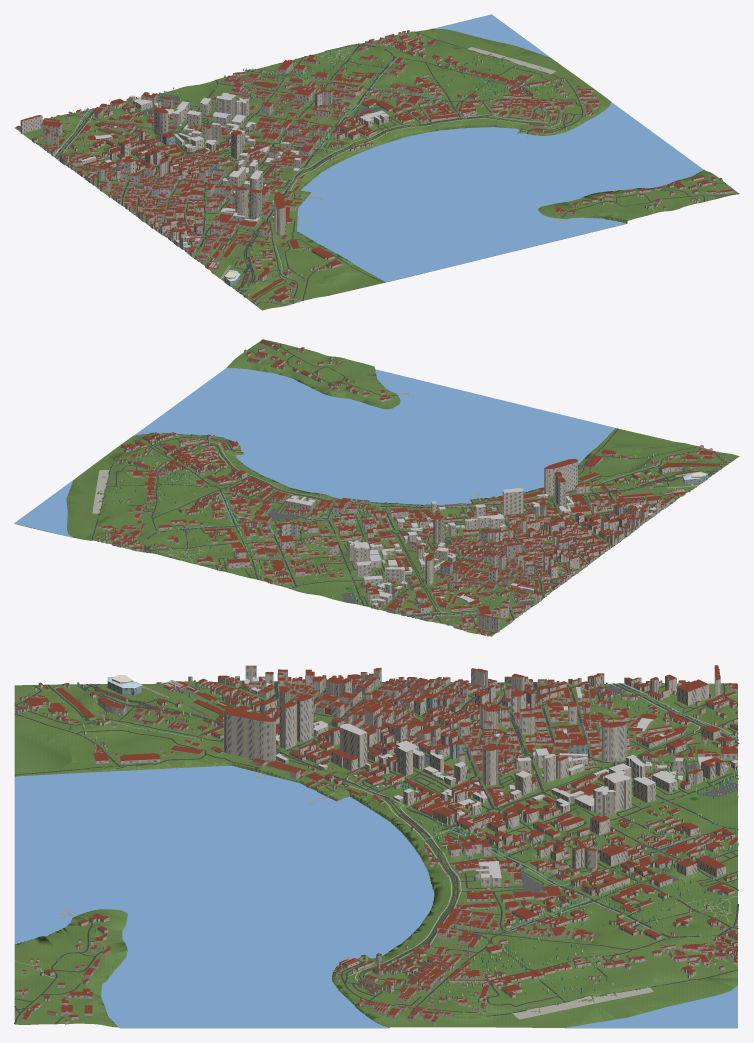
Rendered from Tile_X0_Y0.glb.
3 renders of one model, top to bottom at view 1: azimuth 30°, elevation 25°; view 2: azimuth 150°, elevation 25°; view 3: azimuth 270°, elevation 25°, orthographic. The views are drawn at different scales.
Parts seen in each view (by area): view 1: water_-1_2793, Terrain, water_-1_2792; view 2: Terrain, water_-1_2793, water_-1_2792, building_368888931_443, building_688369868_1840; view 3: water_-1_2793, Terrain, water_-1_2792, building_368888931_443, plaza_1138454515_3658, building_368905048_468, building_688369868_1840, building_688369315_1656, building_688369331_1666, building_688369590_1730, building_688369610_1743, building_368980892_515 (+2 smaller).
Part boxes in pixels (left/top/right/bottom): water_-1_2793: left=297, top=102, right=703, bottom=281; Terrain: left=14, top=28, right=739, bottom=310; water_-1_2792: left=434, top=14, right=550, bottom=57; Terrain: left=14, top=339, right=739, bottom=636; water_-1_2793: left=134, top=368, right=614, bottom=505; water_-1_2792: left=14, top=480, right=73, bottom=537; building_368888931_443: left=544, top=459, right=577, bottom=495; building_688369868_1840: left=502, top=488, right=523, bottom=515; water_-1_2793: left=14, top=765, right=434, bottom=1027; Terrain: left=14, top=680, right=737, bottom=1028; water_-1_2792: left=565, top=986, right=737, bottom=1027; building_368888931_443: left=223, top=708, right=275, bottom=761; plaza_1138454515_3658: left=512, top=987, right=653, bottom=1019; building_368905048_468: left=601, top=721, right=626, bottom=762; building_688369868_1840: left=340, top=723, right=367, bottom=767; building_688369315_1656: left=279, top=701, right=296, bottom=749; building_688369331_1666: left=296, top=694, right=313, bottom=742; building_688369590_1730: left=604, top=770, right=631, bottom=811; building_688369610_1743: left=482, top=744, right=498, bottom=785; building_368980892_515: left=677, top=679, right=708, bottom=705.
Bounding box in the file's own units: 2004 × 131 × 1807.
31 materials, 15 textured.
